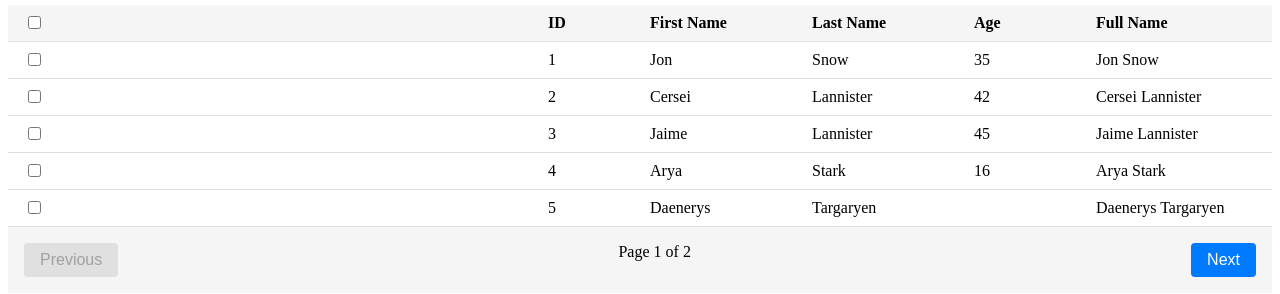
Test: Table Component › renders the pagination buttons
The width and height of the screenshot is (1280, 294).
Expected: the button with aria-label "Previous page" is disabled, [24,243,118,277]
Click the button with aria-label "Next page": [1224, 260] box [1191,243,1256,277]
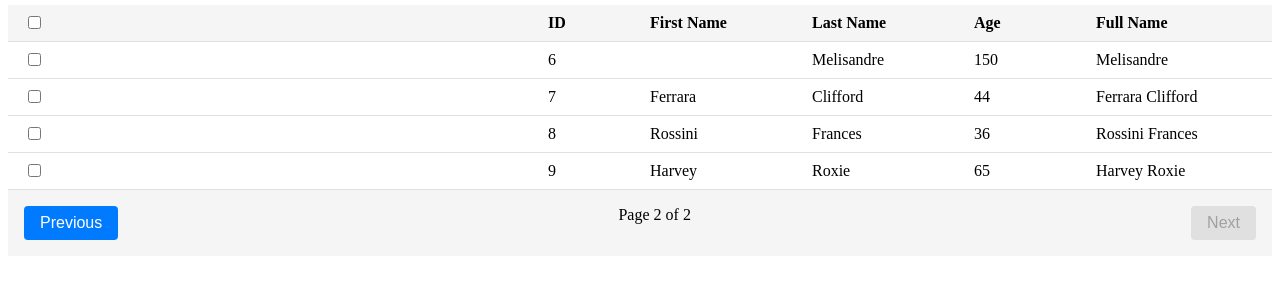
Now the button with aria-label "Previous page" is enabled, box [24,206,118,240]
